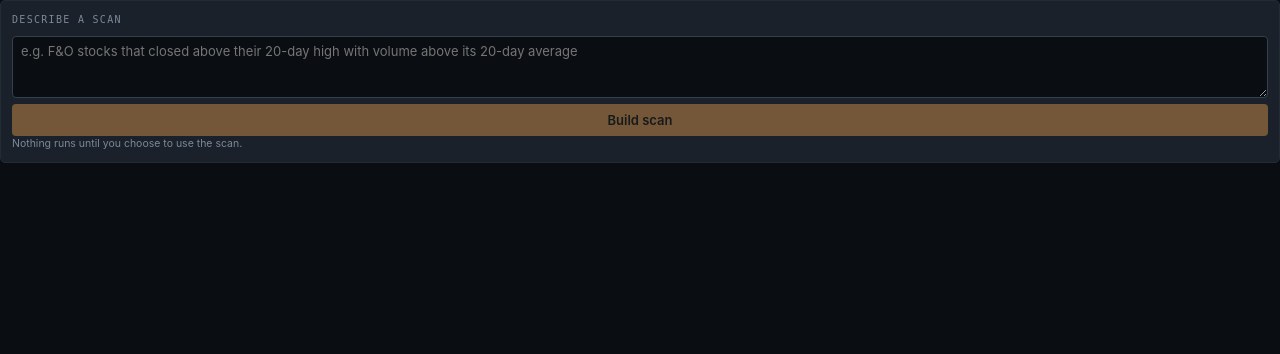
Scenario: ScanAssistant › asks, reads back, and hands the spec over only when the trader chooses
Later steps or results of the test are not shown.
Replace the text in the text box named "Describe a scan" with "breakouts" at x=640, y=67, box [12,36,1268,98]
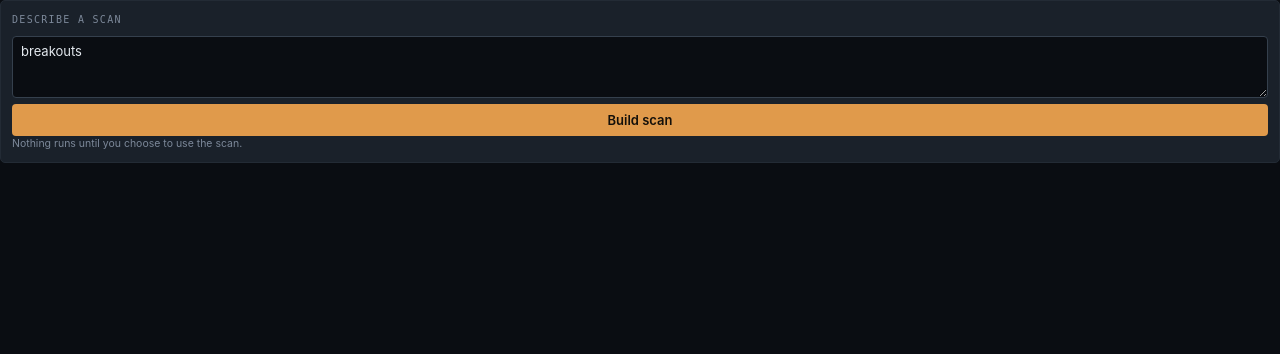
Click the button "Build scan" at x=640, y=120, box [12,104,1268,136]
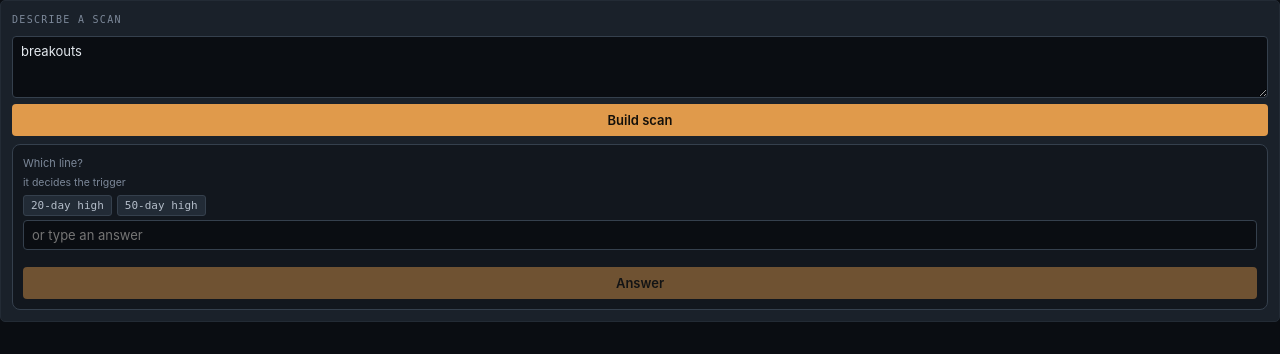
Click the button "20-day high" at x=67, y=205, box [23,195,112,216]
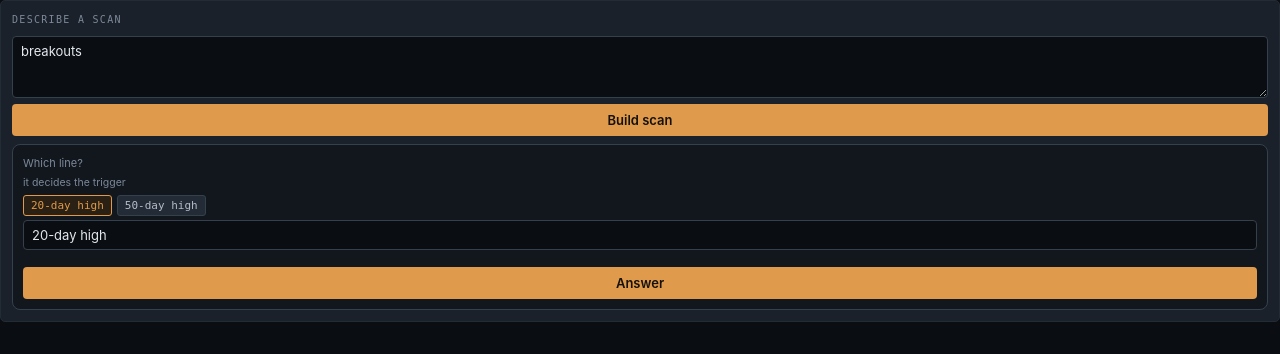
Click the button "Answer" at x=640, y=283, box [23,267,1257,299]
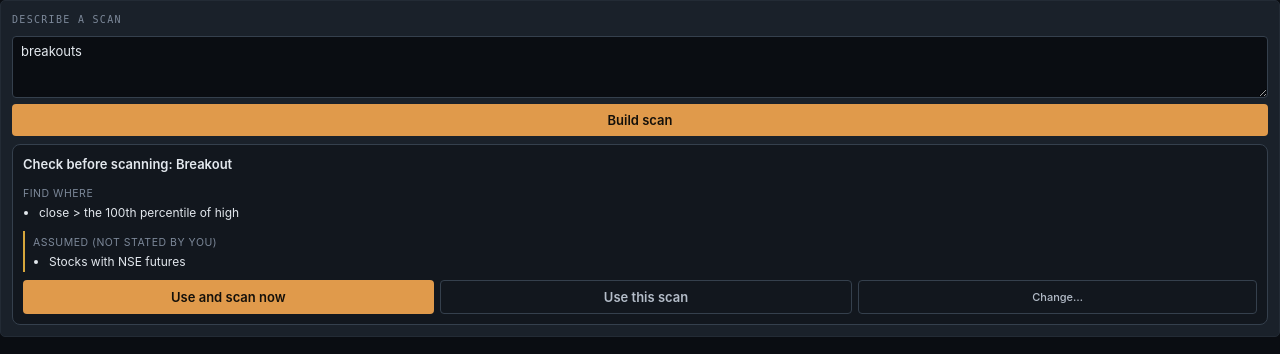
expect the text "Check before scanning: Breakout" is shown: met, box [23,156,232,172]
